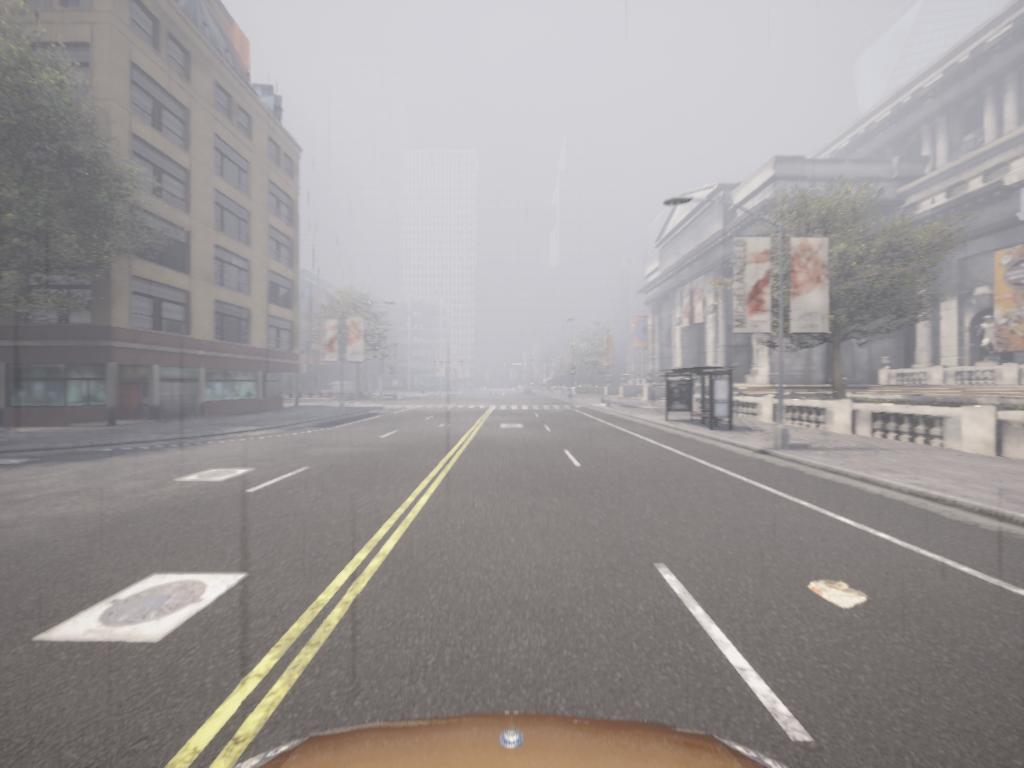traffic_light: (571, 366, 577, 378), (503, 361, 507, 369), (530, 362, 534, 370), (462, 360, 464, 369)
